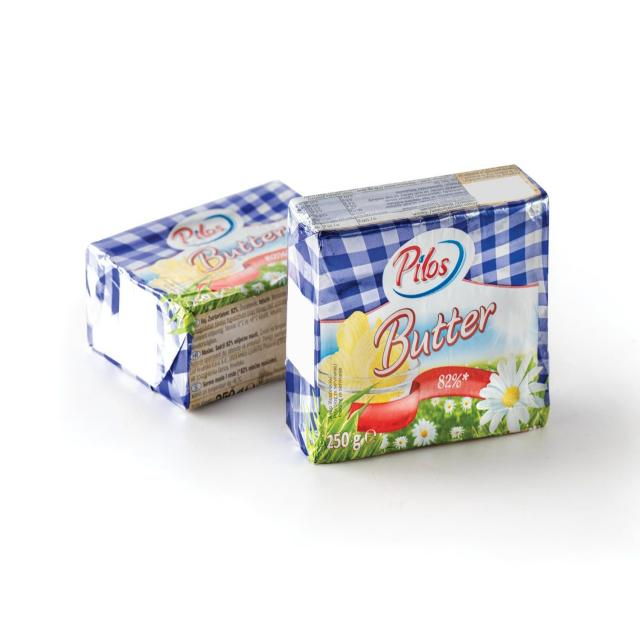butter: (285, 165, 552, 464), (82, 179, 323, 409)
